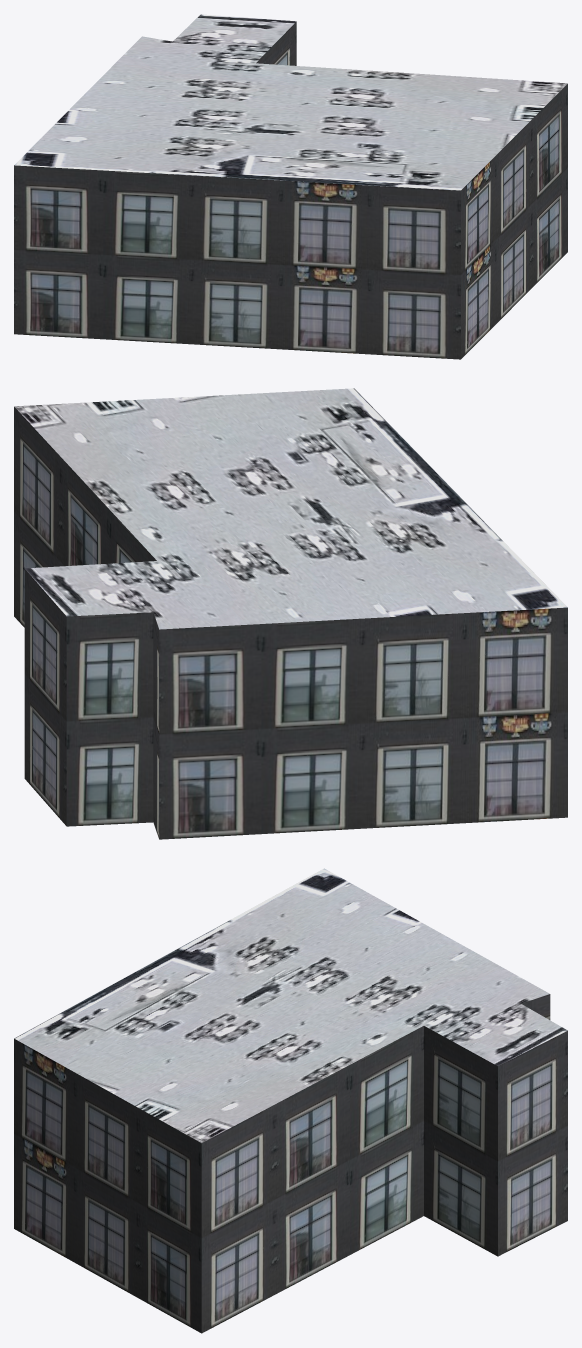
Rendered from ResTex__2931.fbx.
3 views of the same model, one above another, from view 1: azimuth 30°, elevation 25°; view 2: azimuth 150°, elevation 25°; view 3: azimuth 270°, elevation 25° (orthographic). The views are drawn at different scales.
Parts seen in each view (by area): view 1: CityEngineMaterial_22_m, CityEngineMaterial_m; view 2: CityEngineMaterial_22_m, CityEngineMaterial_m; view 3: CityEngineMaterial_22_m, CityEngineMaterial_m.
Boxes of the visible parts, x1,y1,x2,y2 form: CityEngineMaterial_22_m: [14, 22, 567, 359]; CityEngineMaterial_m: [14, 14, 567, 190]; CityEngineMaterial_22_m: [14, 407, 567, 839]; CityEngineMaterial_m: [14, 388, 567, 629]; CityEngineMaterial_22_m: [14, 994, 567, 1333]; CityEngineMaterial_m: [14, 868, 567, 1142].
Size of the model in its own units: 18.58 by 6 by 15.83.
2 materials, 2 textured.
